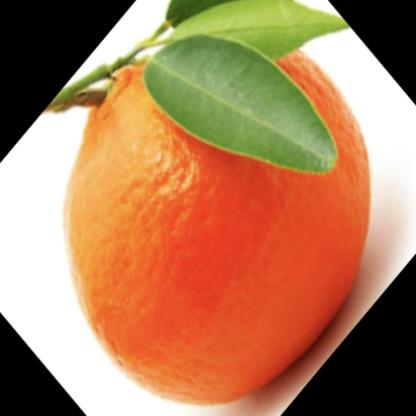fresh: (64, 35, 371, 405)
